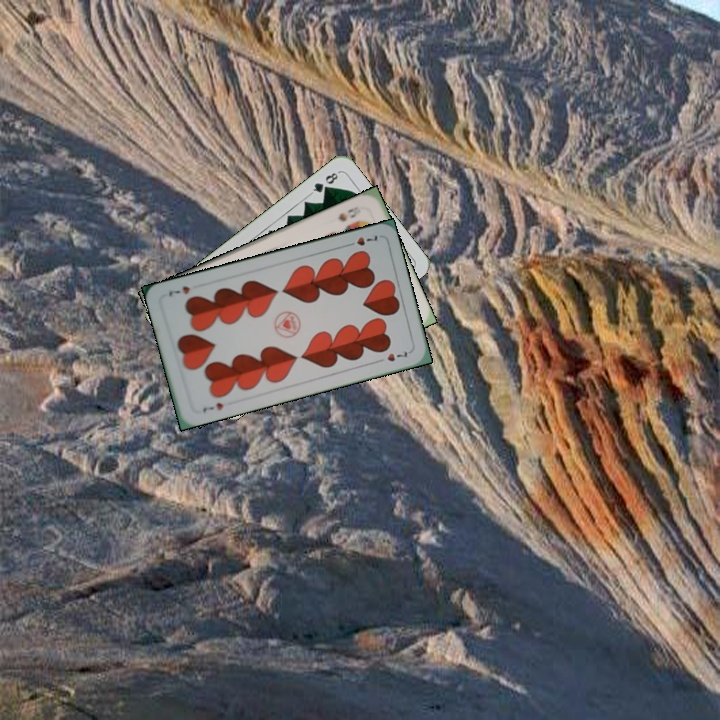G8: (307, 168, 342, 197)
H7: (341, 231, 381, 249), (199, 399, 226, 415)
S8: (334, 202, 361, 224)
